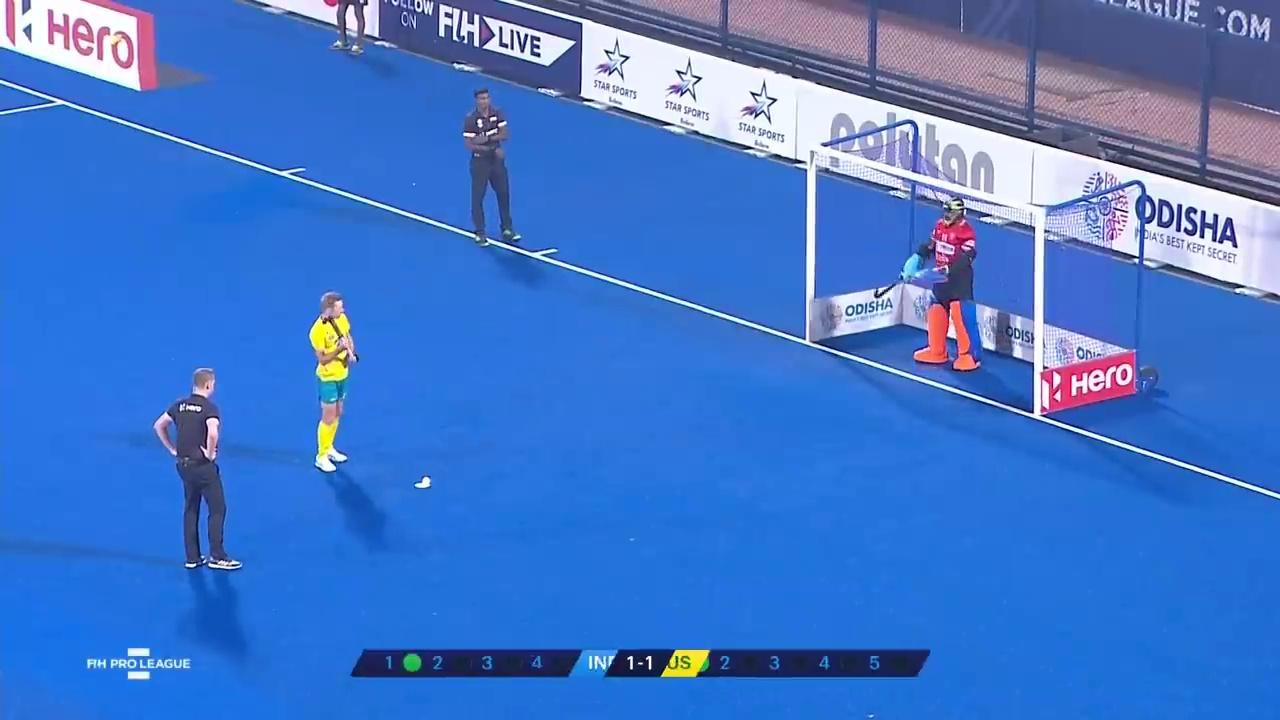ball: (404, 462, 445, 494)
